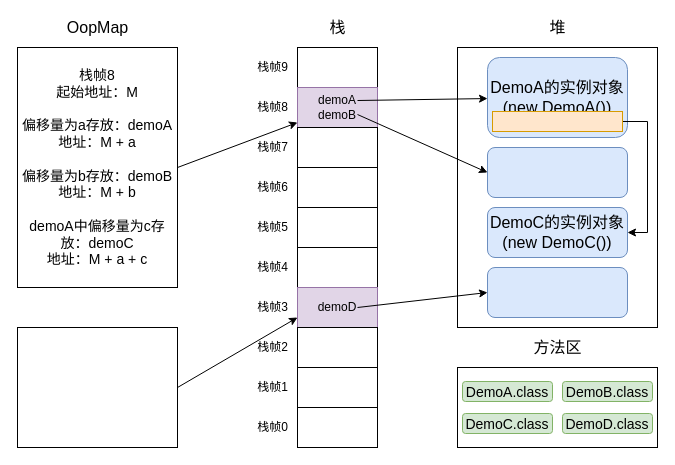
The diagram is 675 pixels wide and 465 high, and some of its shapes have lost their labels. The shapes that lost their labels are listed below. From the top down, each one's centre as x and y in pixels, then its label:
the point at 557,121: demoC=new DemoC()
the point at 557,172: DemoB的实例对象 (new DemoB())
the point at 557,292: DemoD的实例对象 (new DemoD())
the point at 97,387: 栈帧3 起始地址：N 偏移量为c存放：demoC 地址：N + c
